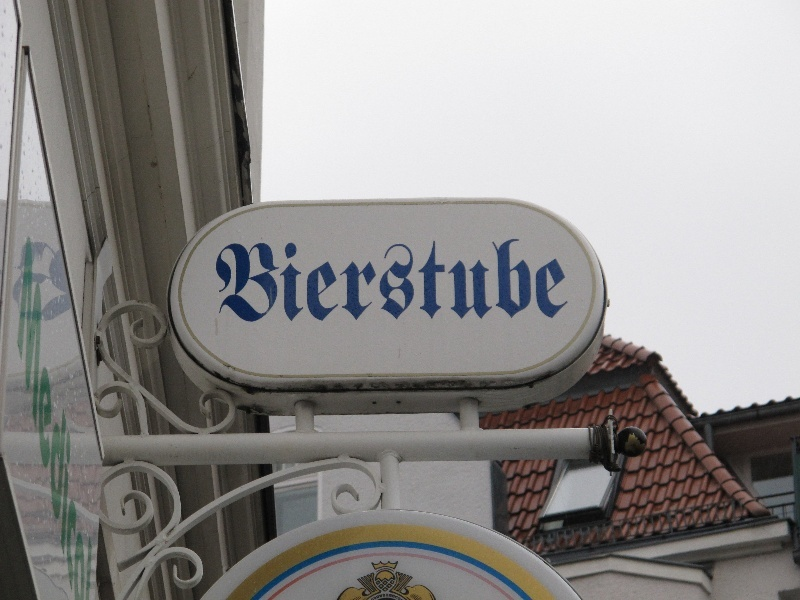text: (33, 231, 48, 597), (49, 231, 64, 597), (65, 231, 80, 597), (27, 231, 32, 597), (225, 235, 240, 323), (241, 235, 256, 323), (257, 235, 272, 323), (273, 235, 288, 323), (289, 235, 304, 323), (305, 235, 320, 323), (321, 235, 336, 323), (337, 235, 352, 323), (353, 235, 368, 323), (369, 235, 384, 323), (385, 235, 400, 323), (401, 235, 416, 323), (417, 235, 432, 323), (433, 235, 448, 323), (449, 235, 464, 323), (465, 235, 480, 323), (481, 235, 496, 323), (497, 235, 512, 323), (513, 235, 528, 323), (529, 235, 544, 323), (545, 235, 560, 323), (33, 240, 48, 322), (49, 240, 64, 322), (561, 235, 571, 323), (22, 240, 32, 322), (65, 240, 75, 322), (215, 235, 224, 323), (81, 533, 93, 599), (81, 231, 83, 597), (79, 533, 80, 599)
